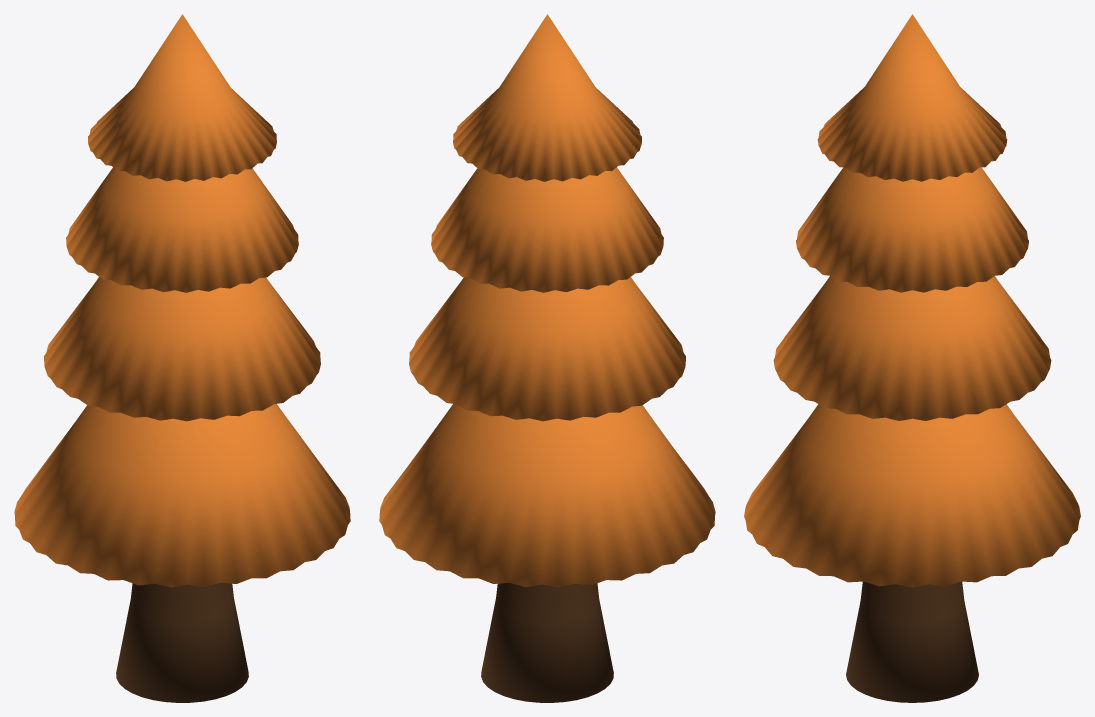
File: AutumnTree.fbx
3 renders of one model, left to right at view 1: azimuth 30°, elevation 25°; view 2: azimuth 150°, elevation 25°; view 3: azimuth 270°, elevation 25°, orthographic.
Visible parts, largest first — view 1: Tree_Leave, Tree_Leave.001, Tree_Leave.002, Tree_Leave.003, Tree; view 2: Tree_Leave, Tree_Leave.001, Tree_Leave.002, Tree_Leave.003, Tree; view 3: Tree_Leave, Tree_Leave.001, Tree_Leave.002, Tree_Leave.003, Tree.
Part boxes in pixels (left/top/right/bottom): Tree_Leave: left=14, top=404, right=350, bottom=587; Tree_Leave.001: left=44, top=277, right=320, bottom=421; Tree_Leave.002: left=66, top=167, right=298, bottom=292; Tree_Leave.003: left=88, top=14, right=276, bottom=181; Tree: left=116, top=582, right=248, bottom=702; Tree_Leave: left=379, top=404, right=715, bottom=587; Tree_Leave.001: left=409, top=277, right=685, bottom=421; Tree_Leave.002: left=431, top=167, right=663, bottom=292; Tree_Leave.003: left=453, top=14, right=641, bottom=181; Tree: left=481, top=582, right=613, bottom=702; Tree_Leave: left=744, top=404, right=1080, bottom=587; Tree_Leave.001: left=773, top=276, right=1051, bottom=420; Tree_Leave.002: left=796, top=167, right=1028, bottom=292; Tree_Leave.003: left=817, top=14, right=1007, bottom=181; Tree: left=846, top=581, right=978, bottom=702.
Bounding box in the file's own units: 118 × 254 × 118.
